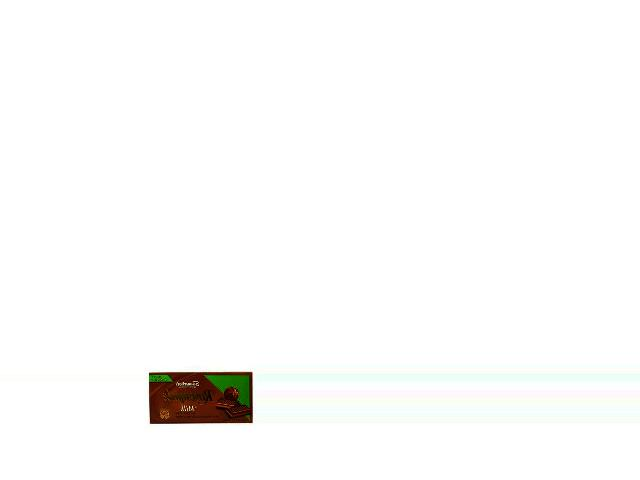chocolate: (144, 370, 254, 428)
